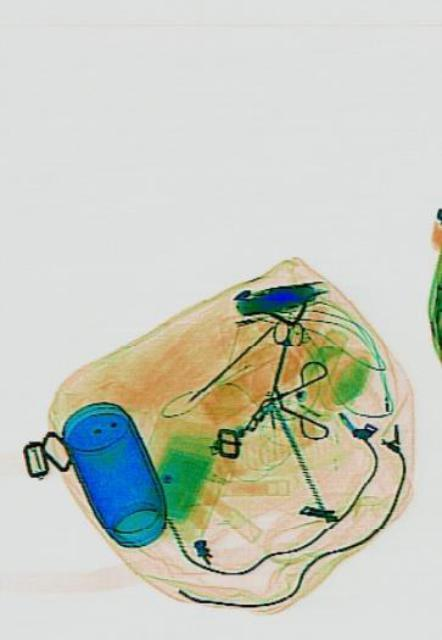Scissors: (255, 313, 305, 407)
